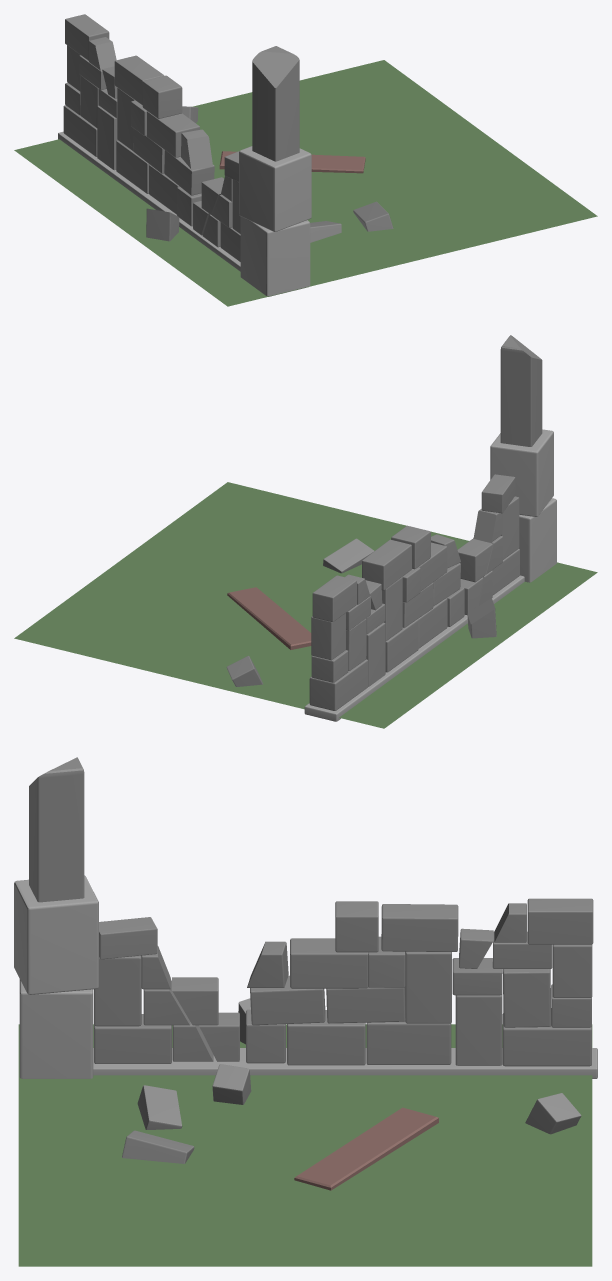
File: AdventureForest_CrumbledWall_Section2.fbx
3 renders of one model, top to bottom at view 1: azimuth 30°, elevation 25°; view 2: azimuth 150°, elevation 25°; view 3: azimuth 270°, elevation 25°, orthographic. The views are drawn at different scales.
Parts seen in each view (by area): view 1: Wall_crumble_comp_tile_2; view 2: Wall_crumble_comp_tile_2; view 3: Wall_crumble_comp_tile_2.
Boxes of the visible parts, x1=… form: Wall_crumble_comp_tile_2: x1=14, y1=14, x2=597, y2=306; Wall_crumble_comp_tile_2: x1=14, y1=335, x2=597, y2=728; Wall_crumble_comp_tile_2: x1=14, y1=757, x2=597, y2=1266.
Size of the model in its own units: 2 by 1.19 by 2.04.
